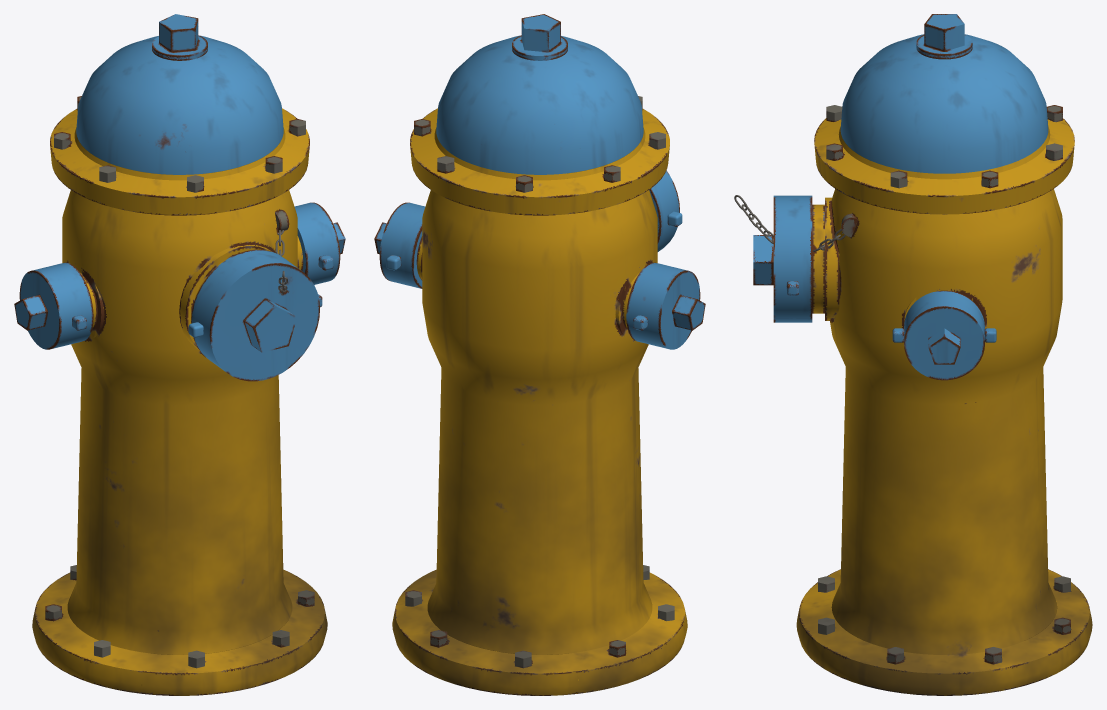
Rendered from SM_Hydrant.glb.
The picture shows the model from 3 angles, left to right: view 1: azimuth 30°, elevation 25°; view 2: azimuth 150°, elevation 25°; view 3: azimuth 270°, elevation 25°; orthographic projection.
Parts seen in each view (by area): view 1: SM_Hydrant; view 2: SM_Hydrant; view 3: SM_Hydrant.
Part boxes in pixels (bbox=[...]): SM_Hydrant: bbox=[14, 14, 345, 695]; SM_Hydrant: bbox=[374, 14, 705, 695]; SM_Hydrant: bbox=[734, 14, 1092, 695].
Bounding box in the file's own units: 0.414 × 0.768 × 0.4065.
4 materials, 4 textured.
